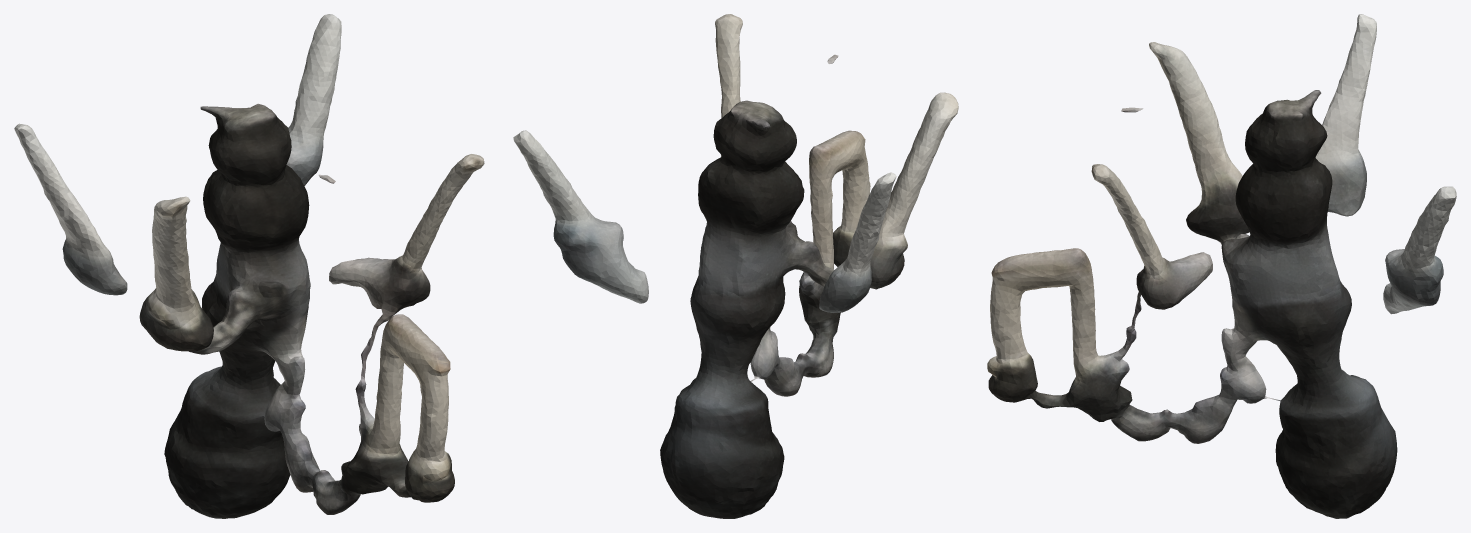
File: IMG_SEG_18.glb
3 renders of one model, left to right at view 1: azimuth 30°, elevation 25°; view 2: azimuth 150°, elevation 25°; view 3: azimuth 270°, elevation 25°, orthographic. The views are drawn at different scales.
Size of the model in its own units: 0.7523 by 0.8344 by 0.8719.
1 material, 1 textured.
